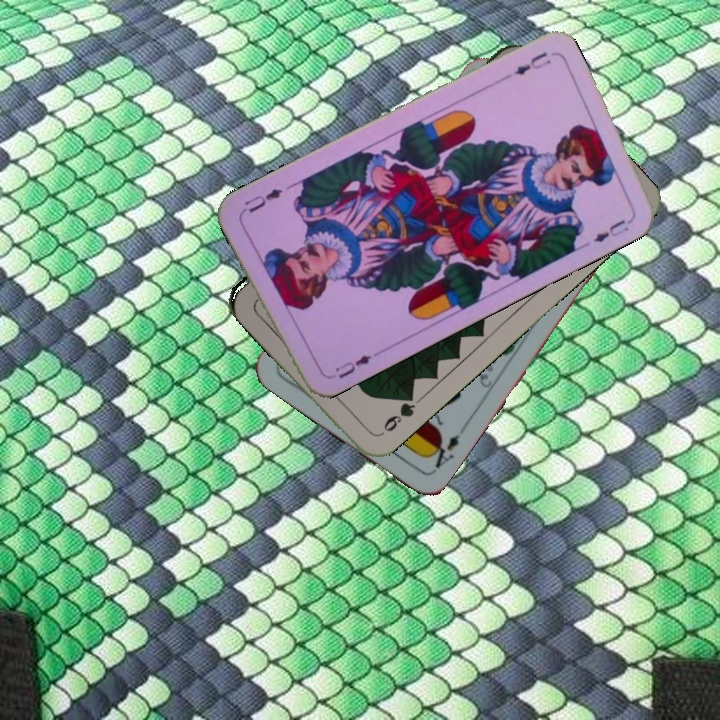EA: (423, 430, 463, 476)
EU: (331, 348, 381, 382), (510, 48, 553, 78)
G9: (375, 388, 419, 439)
